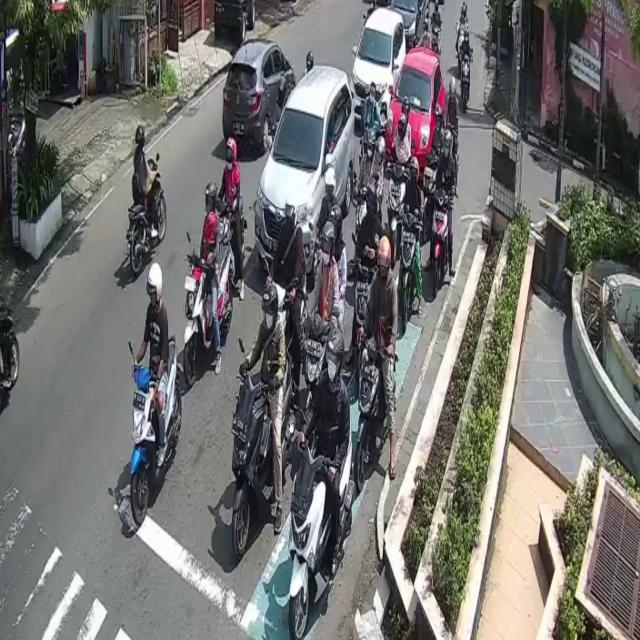bus: (289, 411, 354, 640), (233, 360, 295, 559), (130, 332, 182, 527), (181, 240, 231, 385), (359, 343, 399, 489), (126, 157, 167, 279), (397, 212, 418, 333), (430, 191, 450, 300), (460, 55, 470, 113)
motorcycle: (255, 63, 356, 273), (223, 36, 296, 159), (386, 46, 446, 180), (352, 7, 406, 123), (393, 0, 431, 52)
